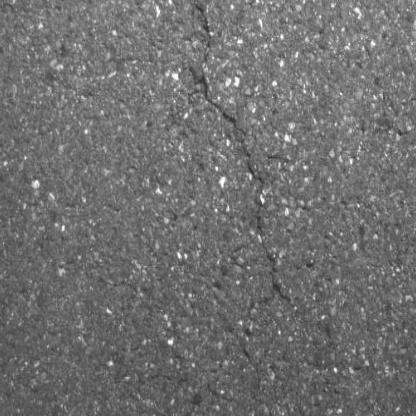Cracks: (185, 63, 297, 309), (156, 0, 217, 65)
